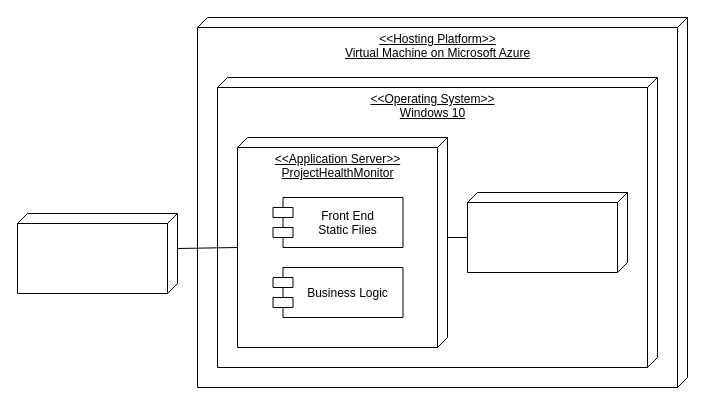
This 705x405 diagram has some shape labels left out. Here are the shapes that lost their labels. From the top down, the centre of each, then its label:
pixel 547 232: Database Server
pixel 97 253: Azure DevOps
